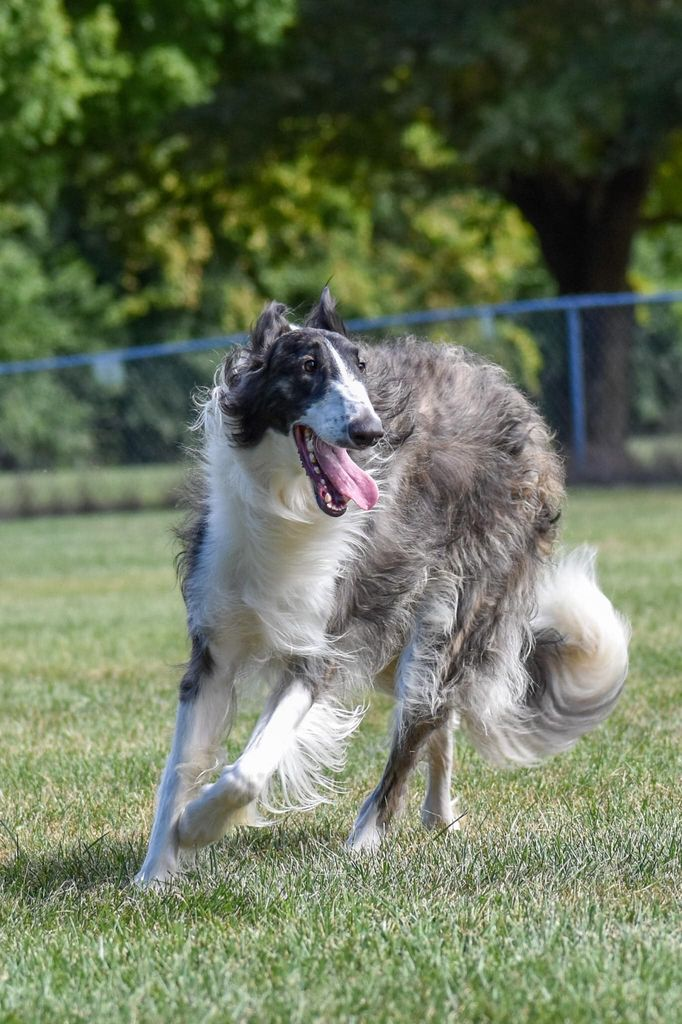borzoi: (127, 296, 622, 890)
